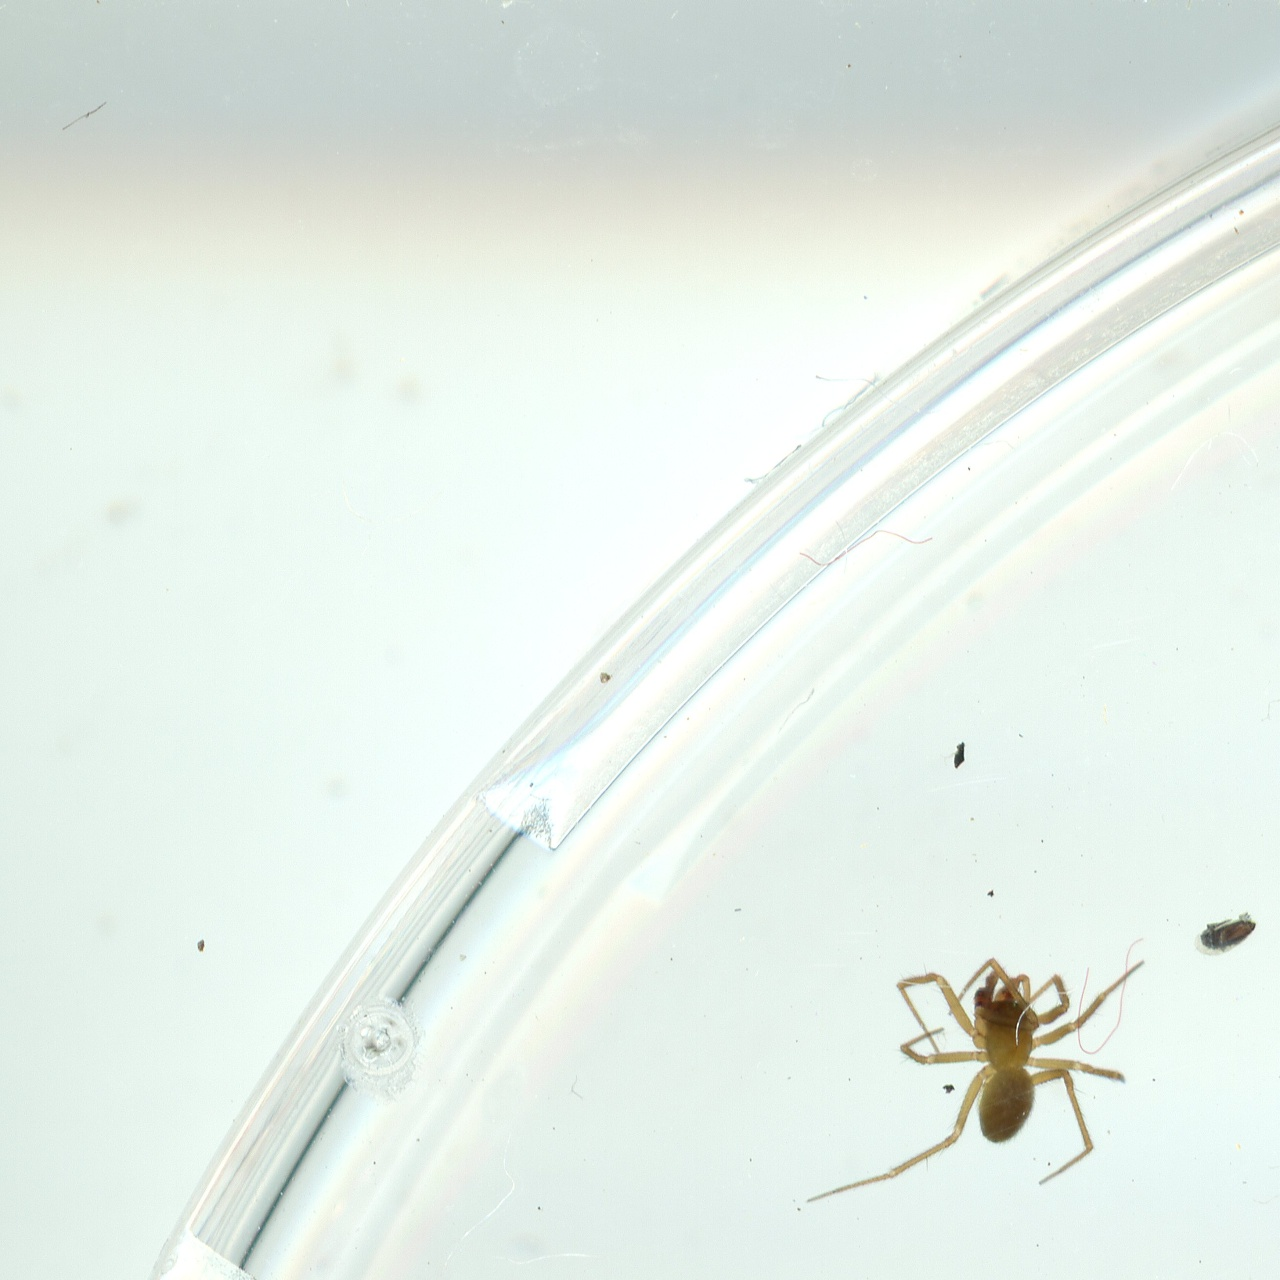arthropod: (803, 954, 1150, 1212), (1189, 908, 1262, 962)
